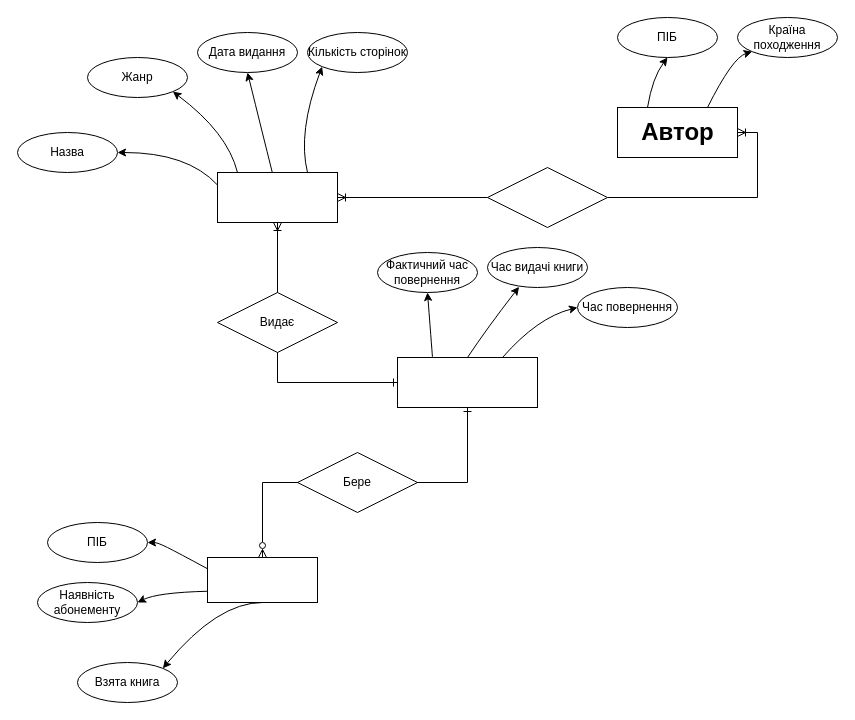
Image size: 855x720. Some labels were removed from this diagram. Here are the shapes that lost their labels. From the top down, the centre of each, then its label:
At [277,197]: "Книга".
At [547,197]: "Має".
At [467,382]: "Бібліотека".
At [262,579]: "Читач".
